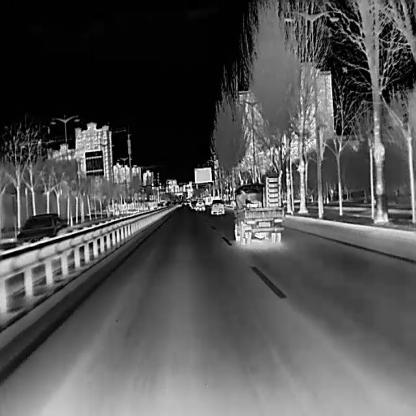car: (13, 211, 73, 260), (211, 198, 224, 214), (194, 198, 204, 210), (156, 202, 161, 209), (164, 202, 170, 206)
truck: (232, 174, 283, 244)
